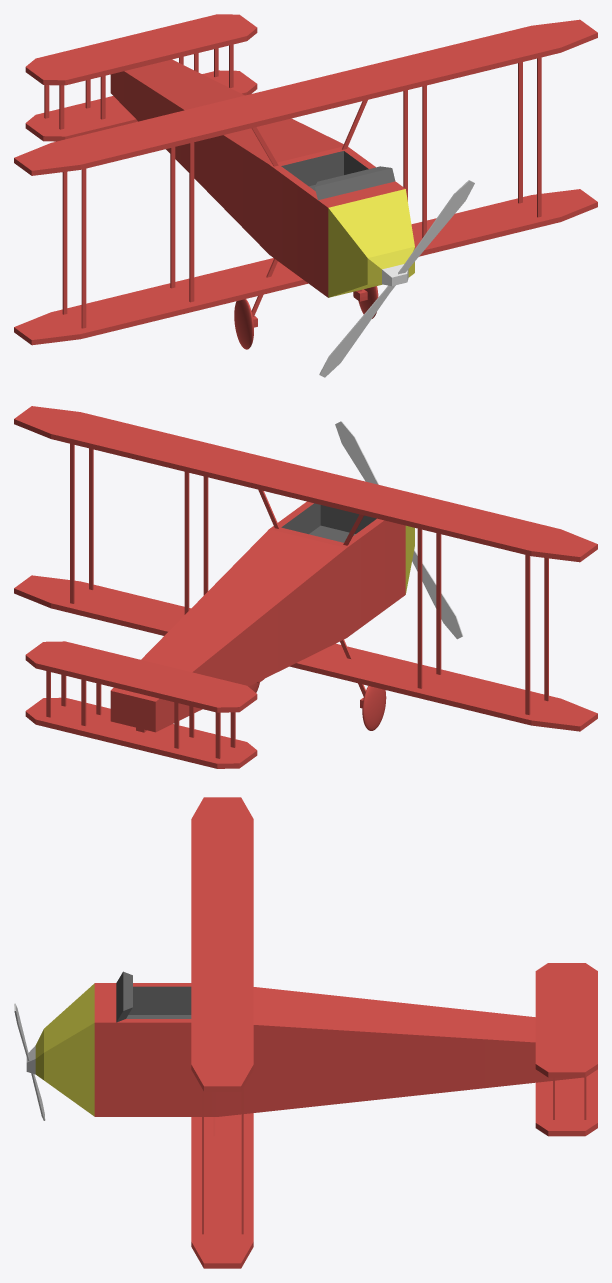
Rendered from _vion.fbx.
3 views of the same model, one above another, from view 1: azimuth 30°, elevation 25°; view 2: azimuth 150°, elevation 25°; view 3: azimuth 270°, elevation 25° (orthographic). The views are drawn at different scales.
Visible parts, largest first — view 1: Plane; view 2: Plane; view 3: Plane.
Boxes of the visible parts, left/top/right/bottom form: Plane: left=14, top=14, right=597, bottom=377; Plane: left=14, top=406, right=597, bottom=768; Plane: left=14, top=797, right=597, bottom=1268.
Bounding box in the file's own units: 831 × 329 × 709.
